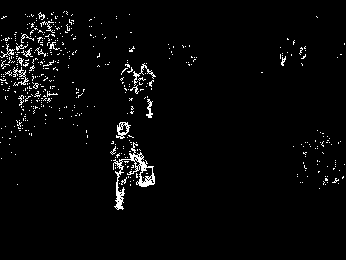person: (111, 120, 155, 211), (119, 60, 140, 114), (138, 65, 157, 120)
